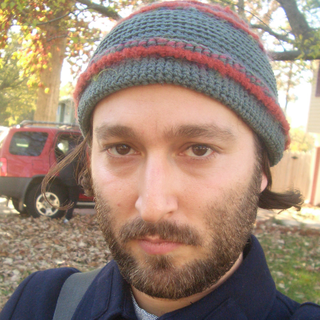eye: (167, 138, 226, 167), (99, 139, 145, 161)
